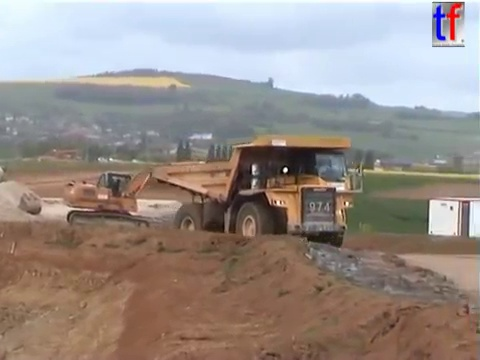excavator: (61, 159, 232, 237)
truck: (150, 134, 366, 255), (1, 162, 8, 189)
